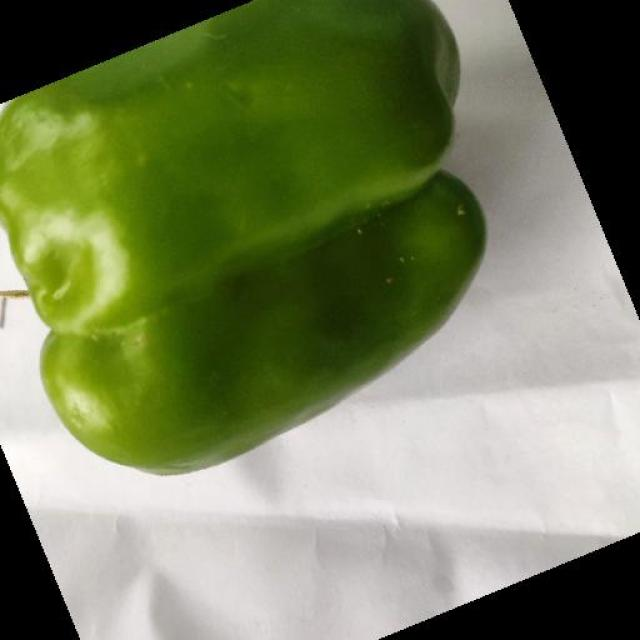Fresh_Capsicum: (0, 85, 571, 369)
